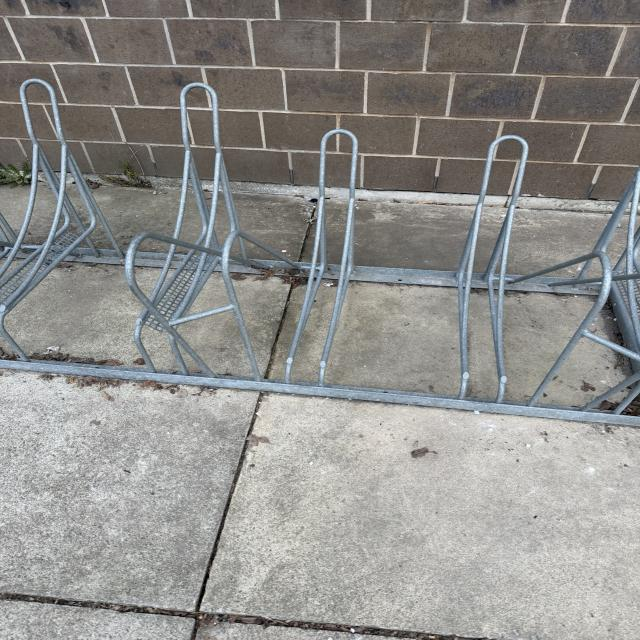Bicycle Rack: (0, 76, 640, 424)
